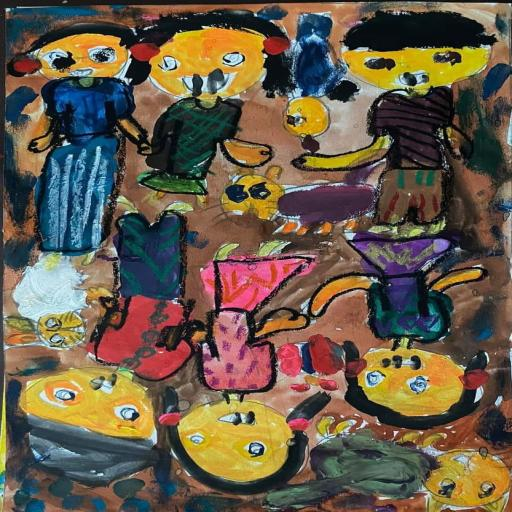person: (4, 194, 192, 499), (292, 7, 512, 240), (152, 247, 329, 495), (326, 221, 500, 428), (132, 2, 294, 220), (20, 10, 140, 262)
